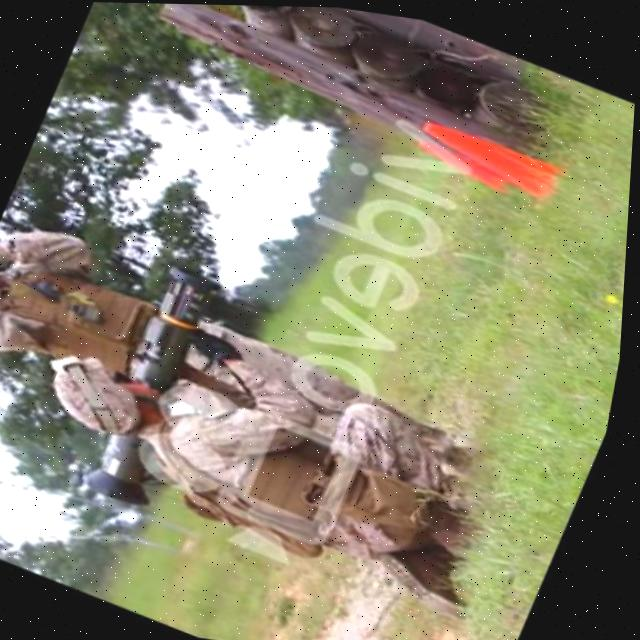rocket: (74, 252, 241, 517)
